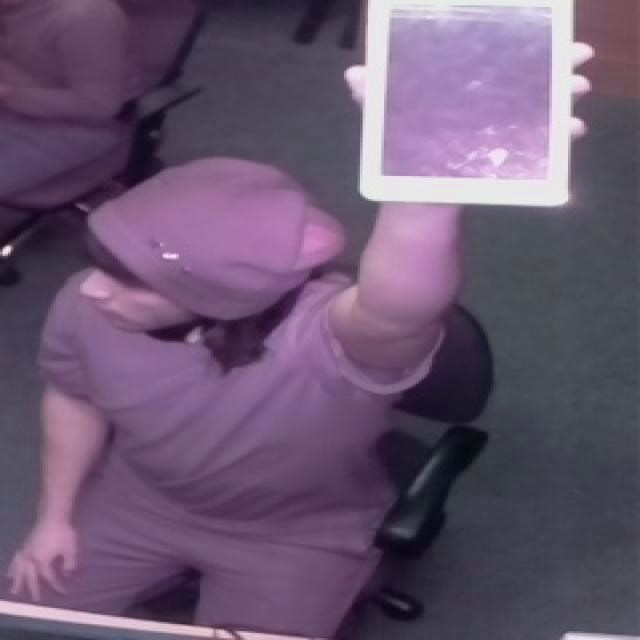phone: (348, 0, 604, 217)
